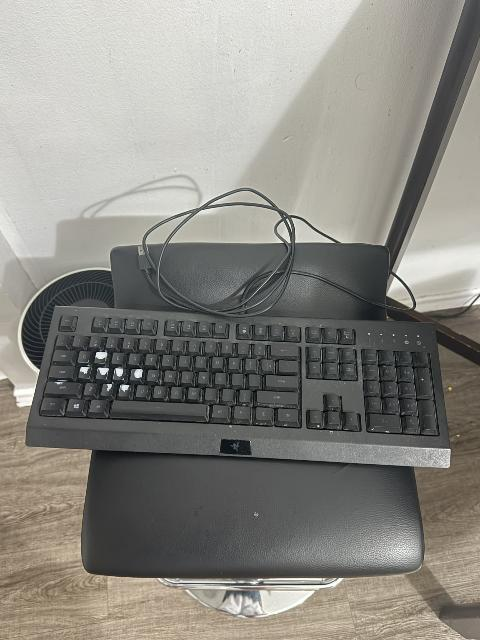ahkeyboard: (17, 294, 464, 482)
